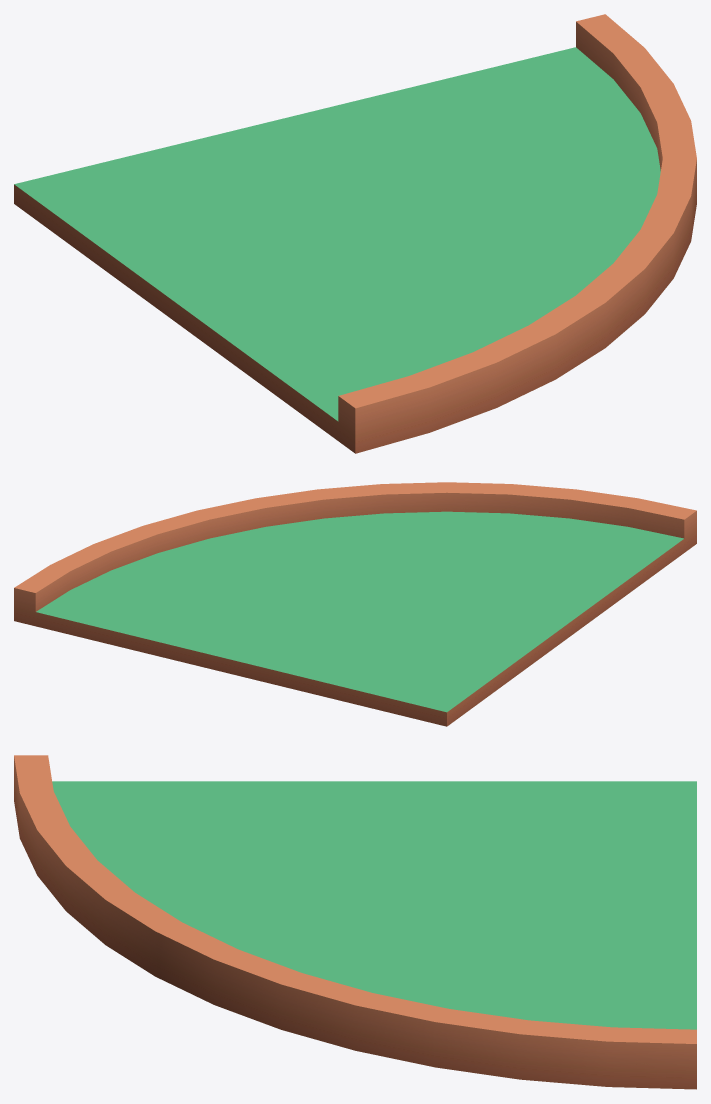
The model's file is round-large-corner-open.glb.
The picture shows the model from 3 angles, top to bottom: view 1: azimuth 30°, elevation 25°; view 2: azimuth 150°, elevation 25°; view 3: azimuth 270°, elevation 25°; orthographic projection. The views are drawn at different scales.
Visible parts, largest first — view 1: round-large-corner-open; view 2: round-large-corner-open; view 3: round-large-corner-open.
Part boxes in pixels (bbox=[...]): round-large-corner-open: bbox=[14, 14, 696, 453]; round-large-corner-open: bbox=[14, 482, 696, 726]; round-large-corner-open: bbox=[14, 755, 696, 1089].
Bounding box in the file's own units: 2 × 0.1466 × 2.
Materials: 1 (1 with a texture image).
